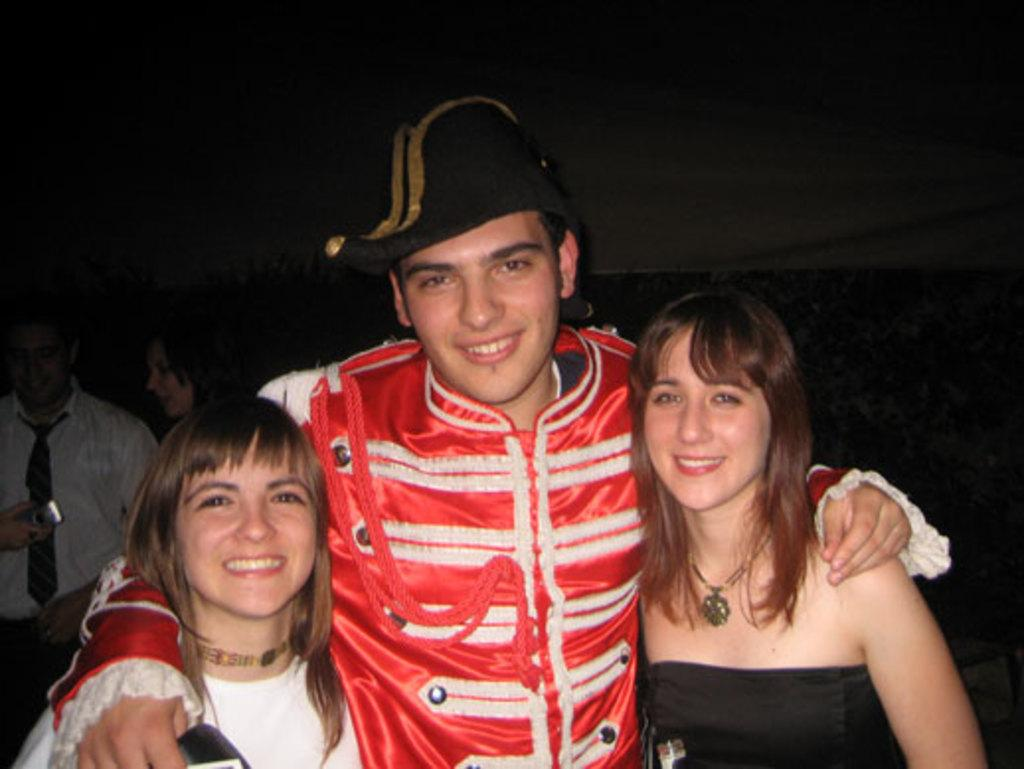Hat: (328, 88, 572, 278)
